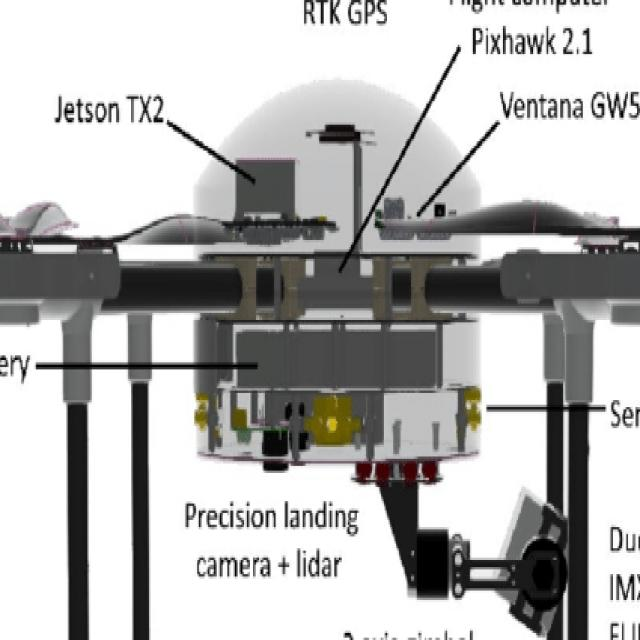drone: (0, 148, 640, 560)
